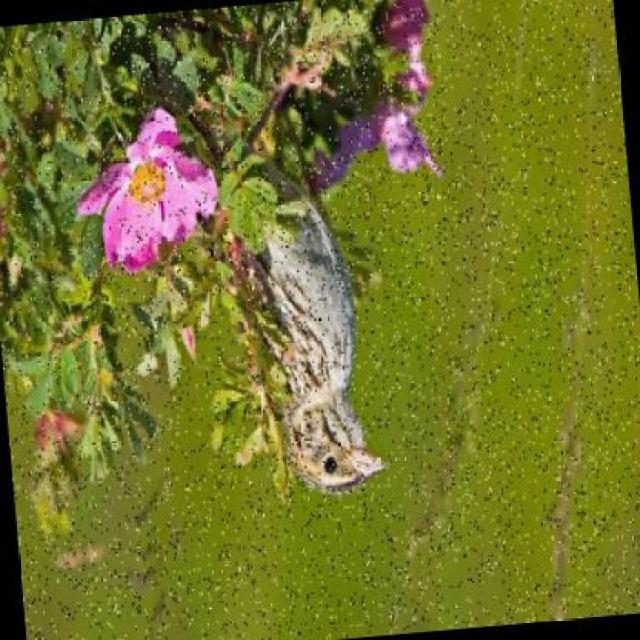Bird: (188, 150, 421, 507)
